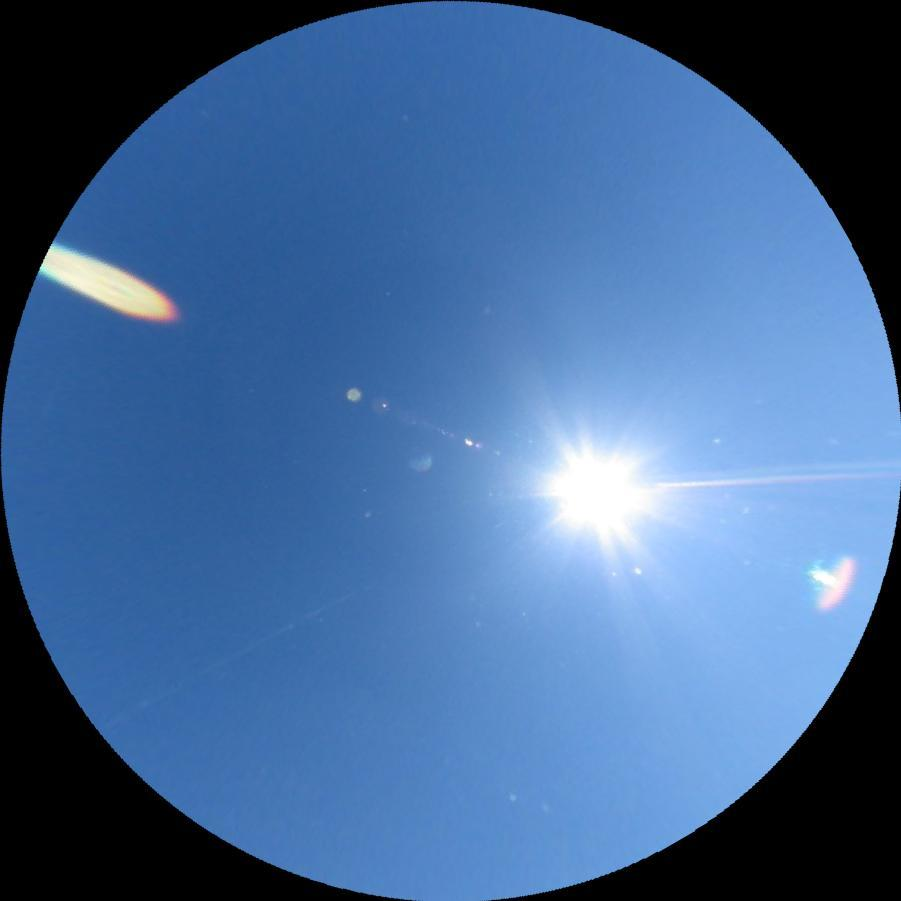parasite: (100, 585, 356, 734), (640, 467, 898, 493)
sun: (537, 440, 651, 543)
